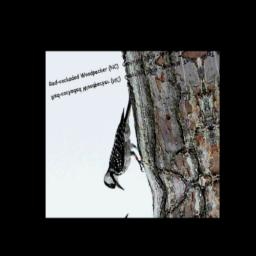Woodpecker: (88, 87, 149, 196)
